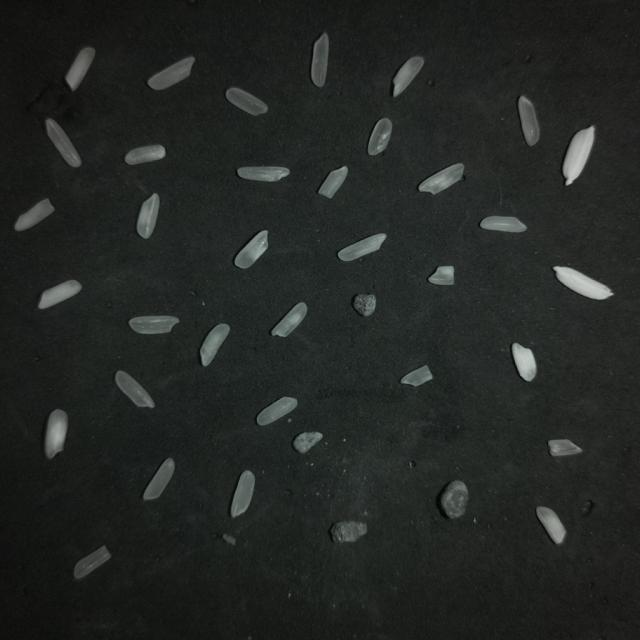broken: (400, 365, 433, 386)
chalky: (419, 164, 464, 194), (65, 47, 95, 91), (338, 234, 386, 261), (14, 199, 54, 231), (235, 230, 268, 268), (38, 280, 81, 309), (393, 57, 424, 97), (272, 302, 307, 337), (200, 324, 229, 366), (44, 410, 68, 459), (536, 507, 566, 544), (137, 194, 159, 239), (318, 166, 348, 198), (512, 343, 536, 381), (125, 145, 166, 165), (480, 216, 526, 233), (237, 167, 289, 182), (548, 439, 582, 456), (428, 266, 454, 285)
foreign: (553, 267, 613, 299), (563, 126, 594, 185), (440, 480, 468, 518), (331, 521, 367, 543), (293, 432, 323, 453), (352, 294, 376, 316)
whole: (46, 119, 81, 167), (148, 57, 194, 90), (115, 370, 154, 408), (144, 458, 174, 499), (74, 546, 111, 579), (226, 88, 268, 115), (230, 470, 254, 517), (257, 397, 297, 425), (518, 96, 539, 146), (311, 34, 329, 88), (129, 316, 179, 334), (368, 119, 392, 155)
